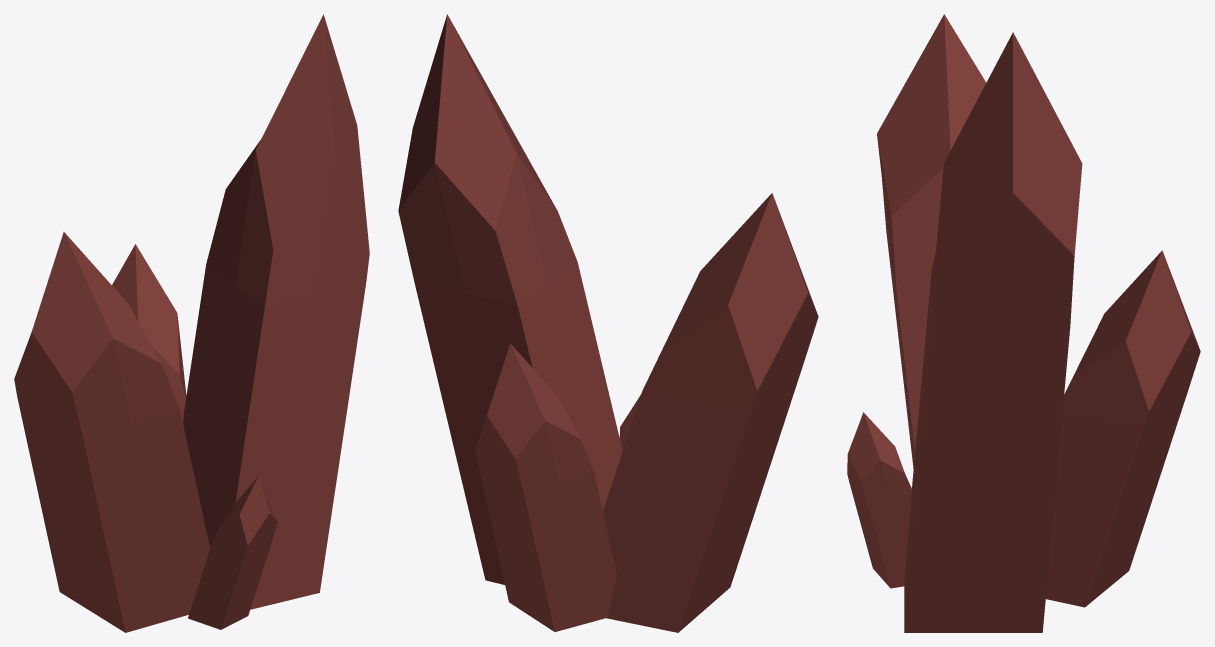
Rendered from Rock1.fbx.
3 views of the same model, side by side, from view 1: azimuth 30°, elevation 25°; view 2: azimuth 150°, elevation 25°; view 3: azimuth 270°, elevation 25° (orthographic). The views are drawn at different scales.
Visible parts, largest first — view 1: Cube.095; view 2: Cube.095; view 3: Cube.095.
Boxes of the visible parts, <box> form: Cube.095: <box>14,14,369,632</box>; Cube.095: <box>398,14,818,632</box>; Cube.095: <box>847,14,1200,632</box>.
Size of the model in its own units: 926 by 1324 by 673.
